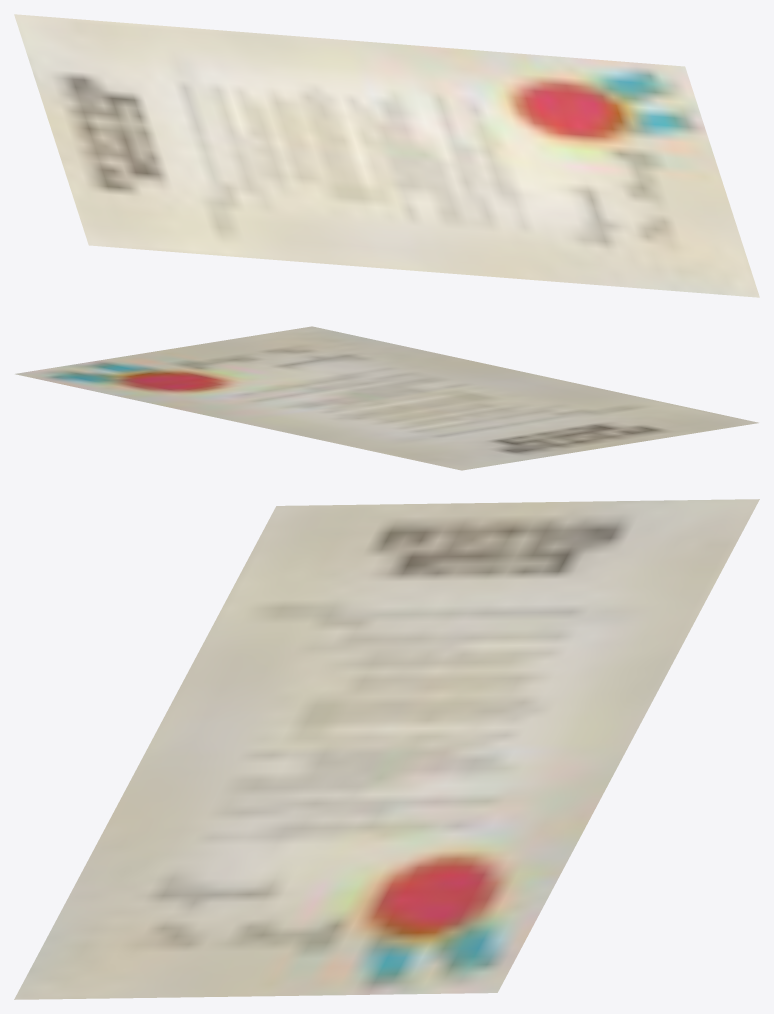
The model's file is shredder-paper.glb.
3 renders of one model, top to bottom at view 1: azimuth 30°, elevation 25°; view 2: azimuth 150°, elevation 25°; view 3: azimuth 270°, elevation 25°, orthographic. The views are drawn at different scales.
Parts seen in each view (by area): view 1: shredder-paper; view 2: shredder-paper; view 3: shredder-paper.
Boxes of the visible parts, bbox=[...] form: shredder-paper: bbox=[14, 14, 759, 297]; shredder-paper: bbox=[15, 326, 758, 470]; shredder-paper: bbox=[14, 499, 759, 999].
Size of the model in its own units: 2.03 by 0.5023 by 1.52.
1 material, 1 textured.
